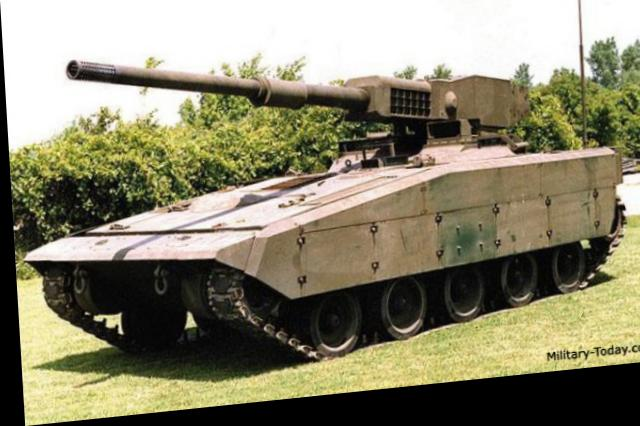other: (31, 71, 625, 376)
